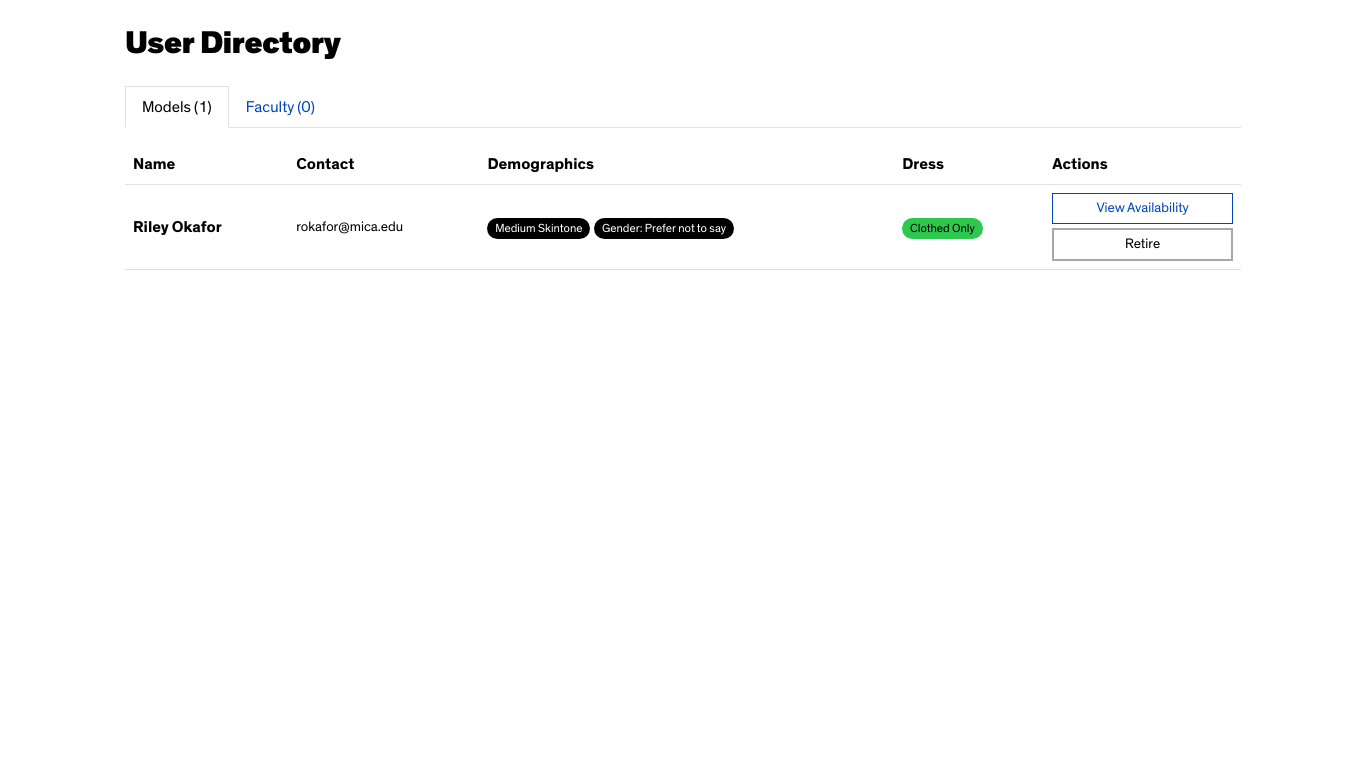
UserDirectory › retiring and bringing back from the list › says why when a model can't be retired yet
The image size is (1366, 768).
Click the button with aria-label "Retire Riley Okafor".
click(1143, 245)  # box [1052,228,1233,261]
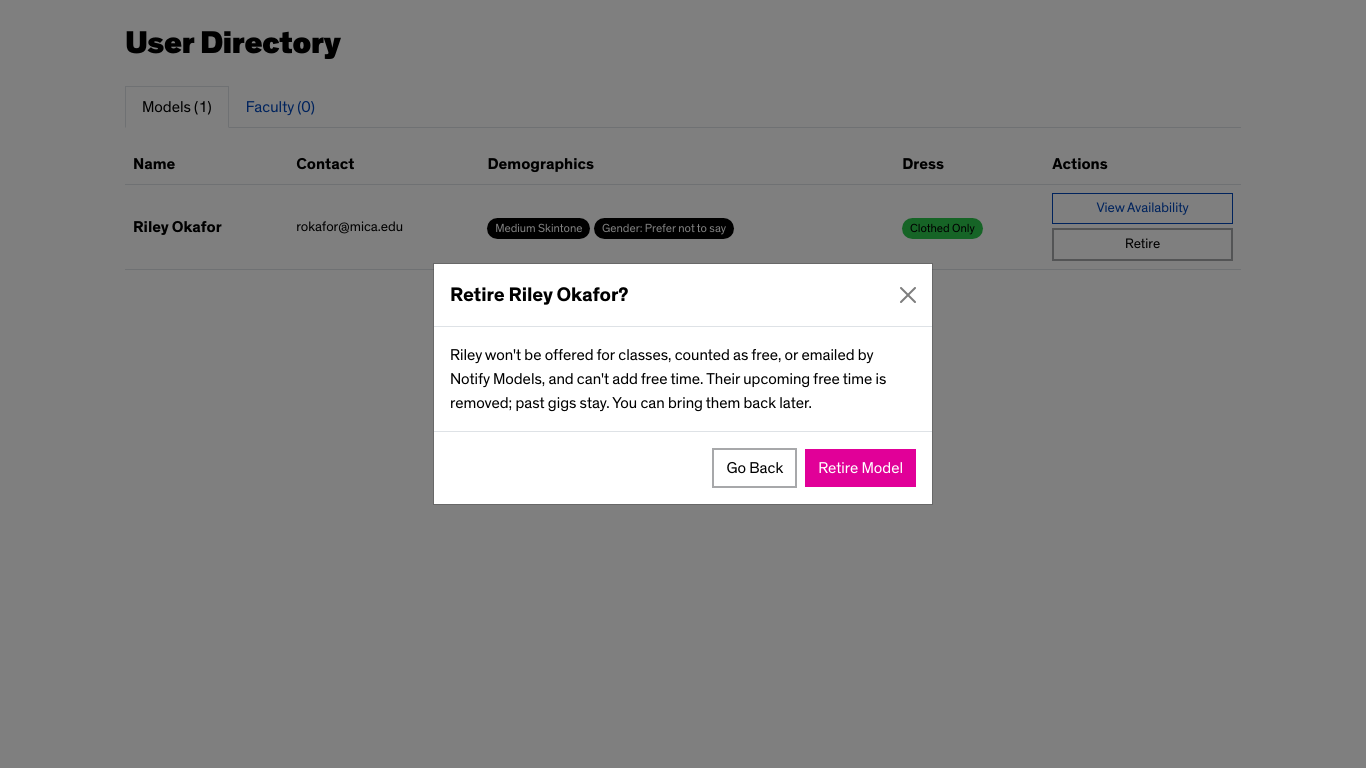
Click the button "Retire Model".
click(861, 468)  # box [805,449,916,487]
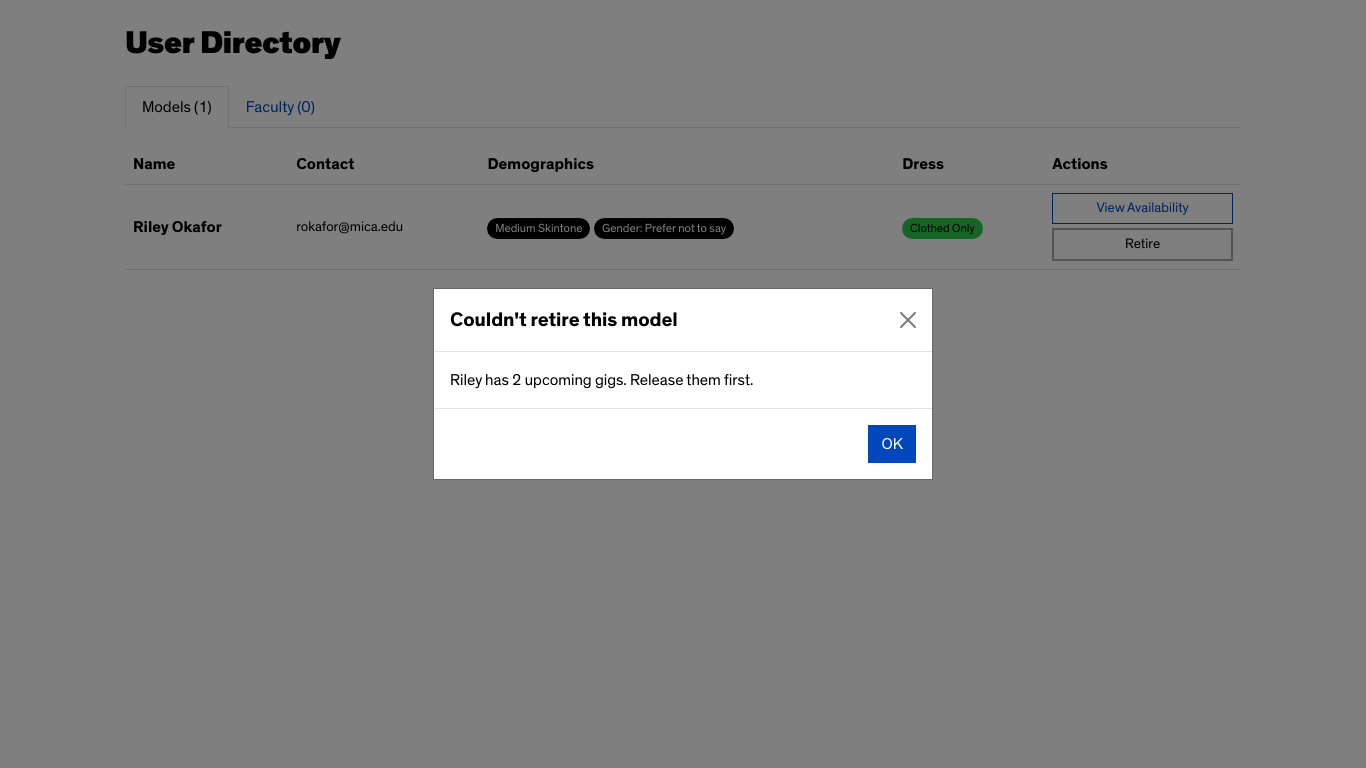
Check: the text "Riley has 2 upcoming gigs. Release them first." is shown, box [450,372,753,388]
